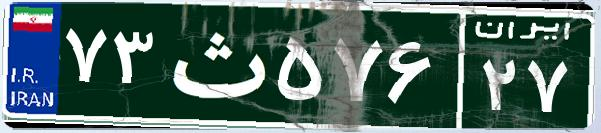2: (475, 38, 525, 113)
3: (110, 28, 158, 105)
5: (273, 28, 330, 110)
6: (385, 28, 445, 110)
7: (330, 28, 385, 110), (57, 26, 110, 107), (525, 38, 570, 115)
ث: (158, 15, 273, 115)
